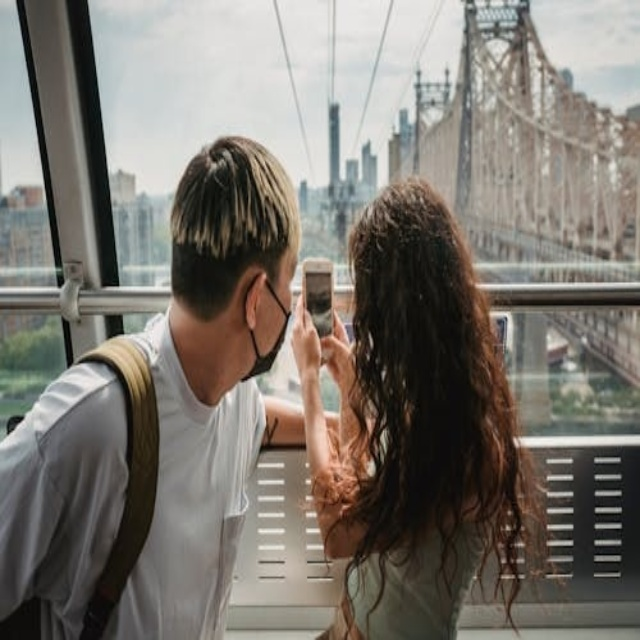Mascara: (241, 273, 290, 381)
Sin_guantes: (293, 281, 351, 375)
